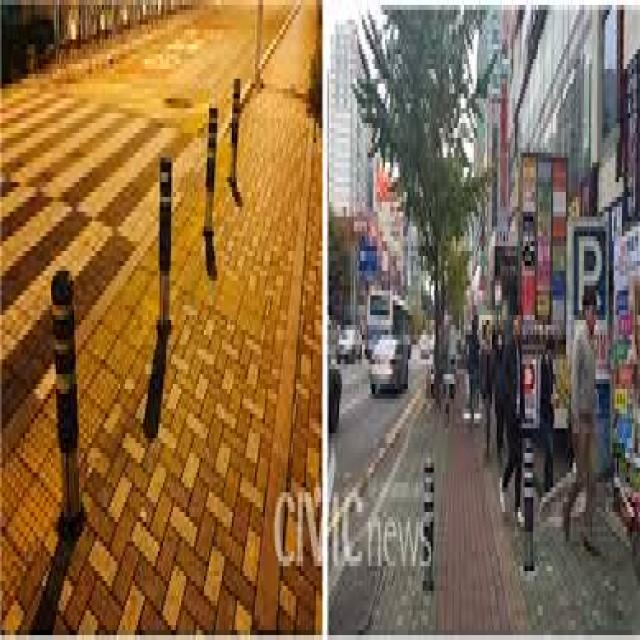bollard: (46, 256, 86, 553), (156, 136, 174, 344), (418, 440, 441, 602), (202, 99, 220, 258), (520, 428, 538, 587), (228, 70, 242, 212)
